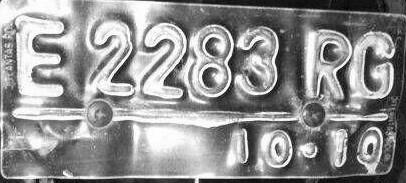2: (86, 15, 137, 97), (138, 19, 188, 99)
3: (233, 22, 281, 98)
8: (193, 22, 234, 101)
E: (14, 14, 66, 99)
G: (354, 30, 396, 98)
R: (304, 26, 354, 101)
